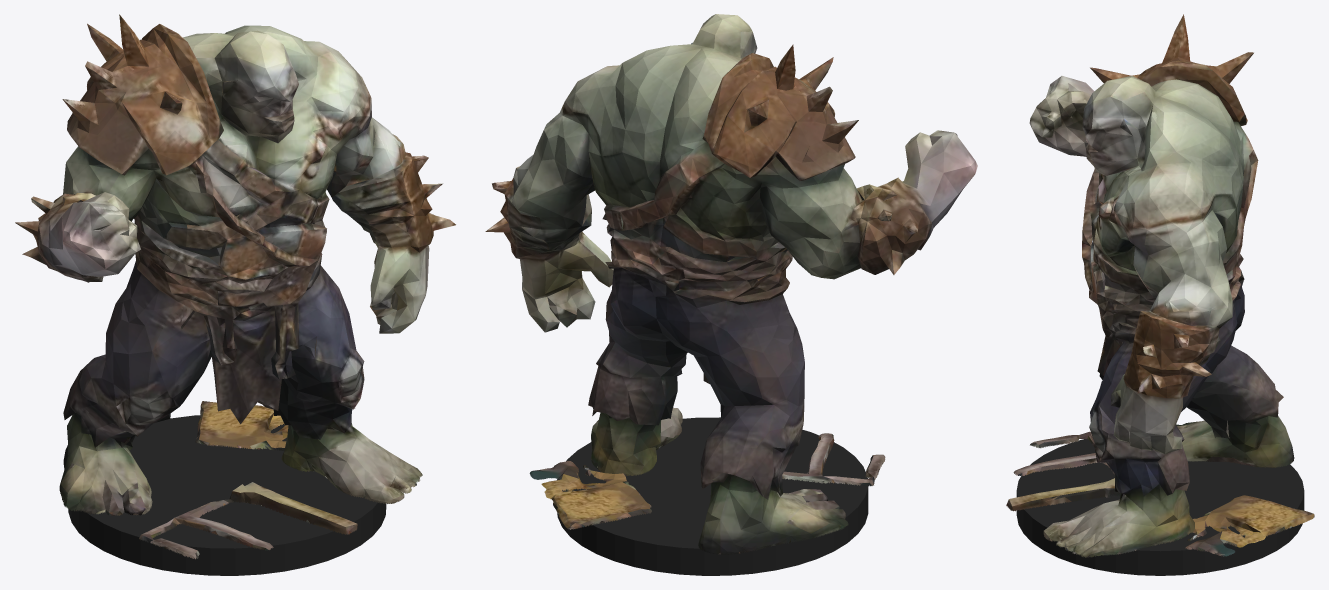
Rendered from brute.glb.
3 views of the same model, side by side, from view 1: azimuth 30°, elevation 25°; view 2: azimuth 150°, elevation 25°; view 3: azimuth 270°, elevation 25° (orthographic). The views are drawn at different scales.
Parts seen in each view (by area): view 1: figure, base; view 2: figure, base; view 3: figure, base.
Part boxes in pixels (<box>): figure: <box>15,14,455,559</box>; base: <box>68,415,386,575</box>; figure: <box>485,14,977,554</box>; base: <box>557,417,868,575</box>; figure: <box>1006,14,1314,557</box>; base: <box>1016,438,1304,575</box>.
Size of the model in its own units: 1.98 by 2.22 by 1.35.
Materials: 2 (1 with a texture image).
